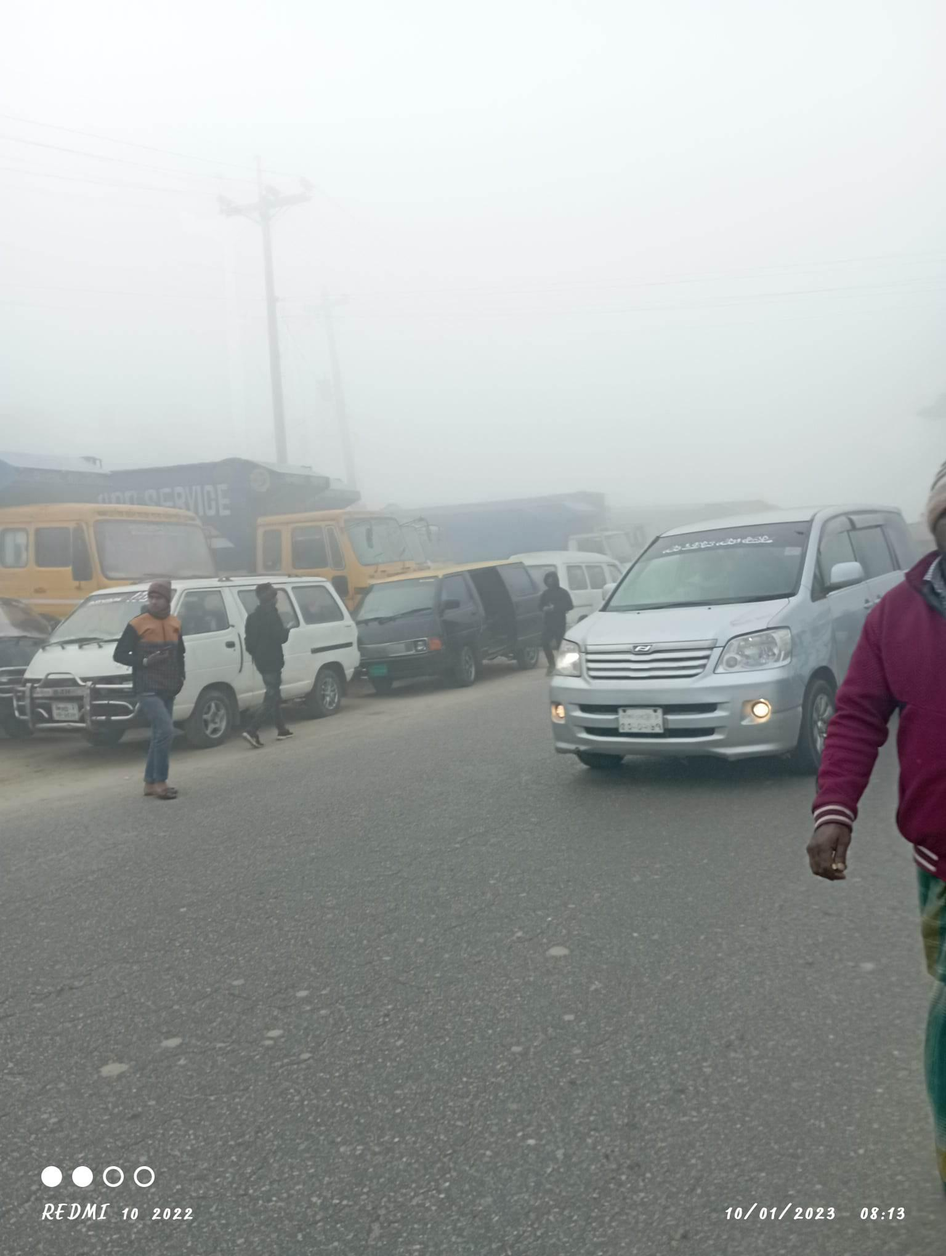Car: (538, 493, 920, 803), (25, 565, 376, 742), (354, 552, 550, 699)
